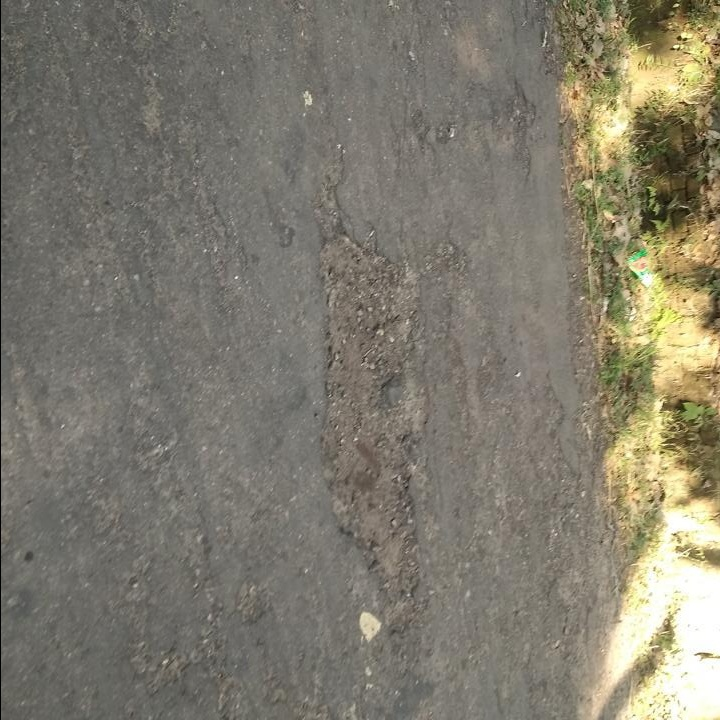pothole: (309, 223, 431, 637), (511, 81, 539, 179)
